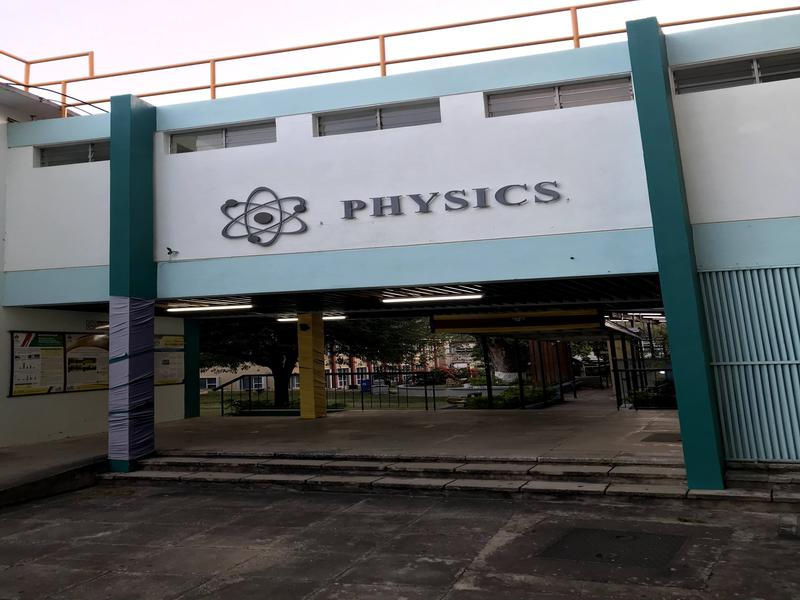18.0053657_-76.7491452_physicssign: (205, 160, 615, 255)
